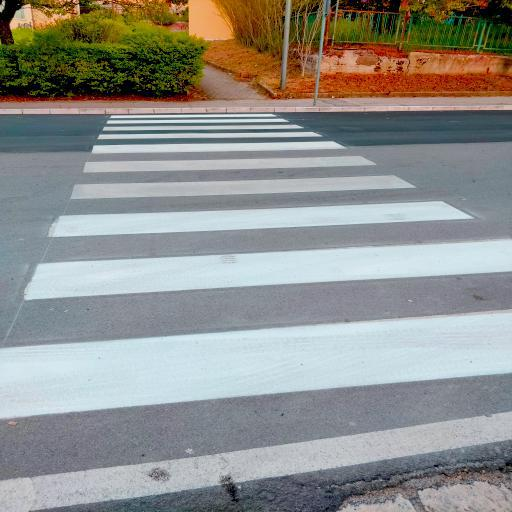crosswalk: (32, 172, 482, 242), (84, 129, 352, 156)
